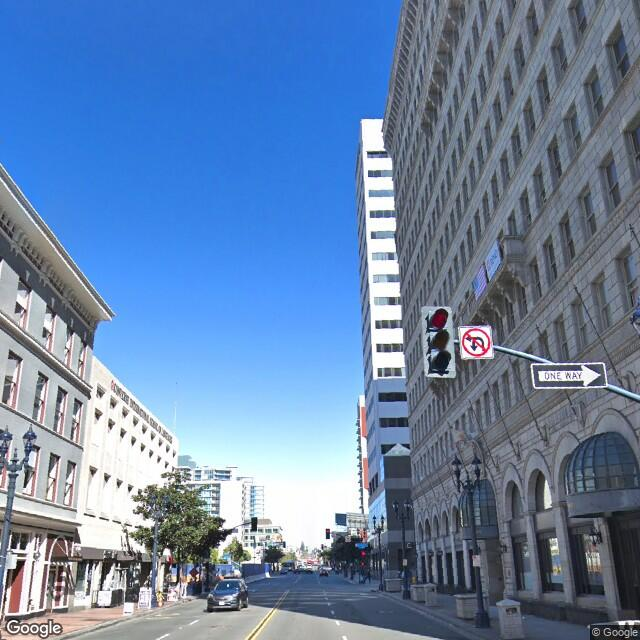light: (23, 426, 36, 456)
window: (44, 451, 58, 501), (57, 385, 62, 433)
